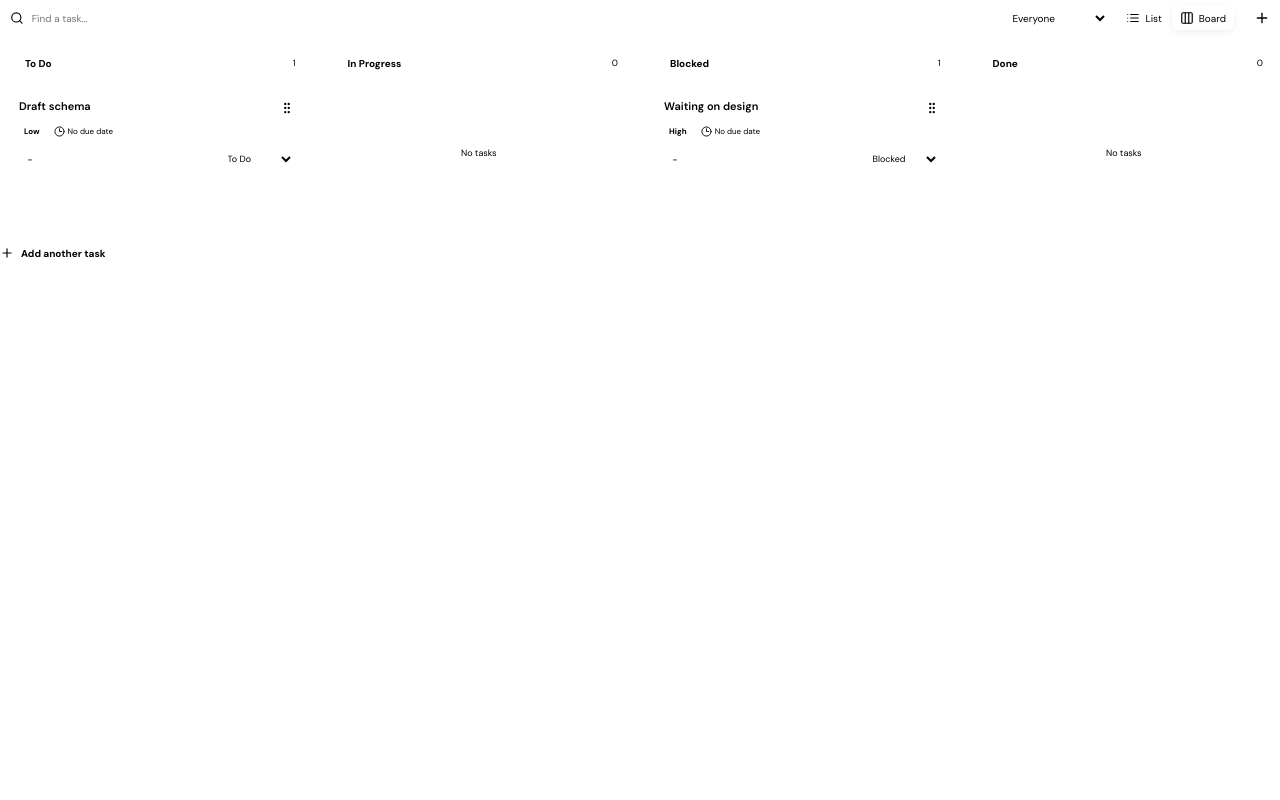
Test: TasksPanel board view › clicking a card opens the task in the edit modal (temporary drawer)
The width and height of the screenshot is (1280, 800).
Check: the text "Draft schema" is shown, box [19, 99, 91, 113]
What coordinates should you click on to do the following:
click the text "Waiting on design"
I would click on:
 (711, 106)
Its box is [664, 99, 758, 113].
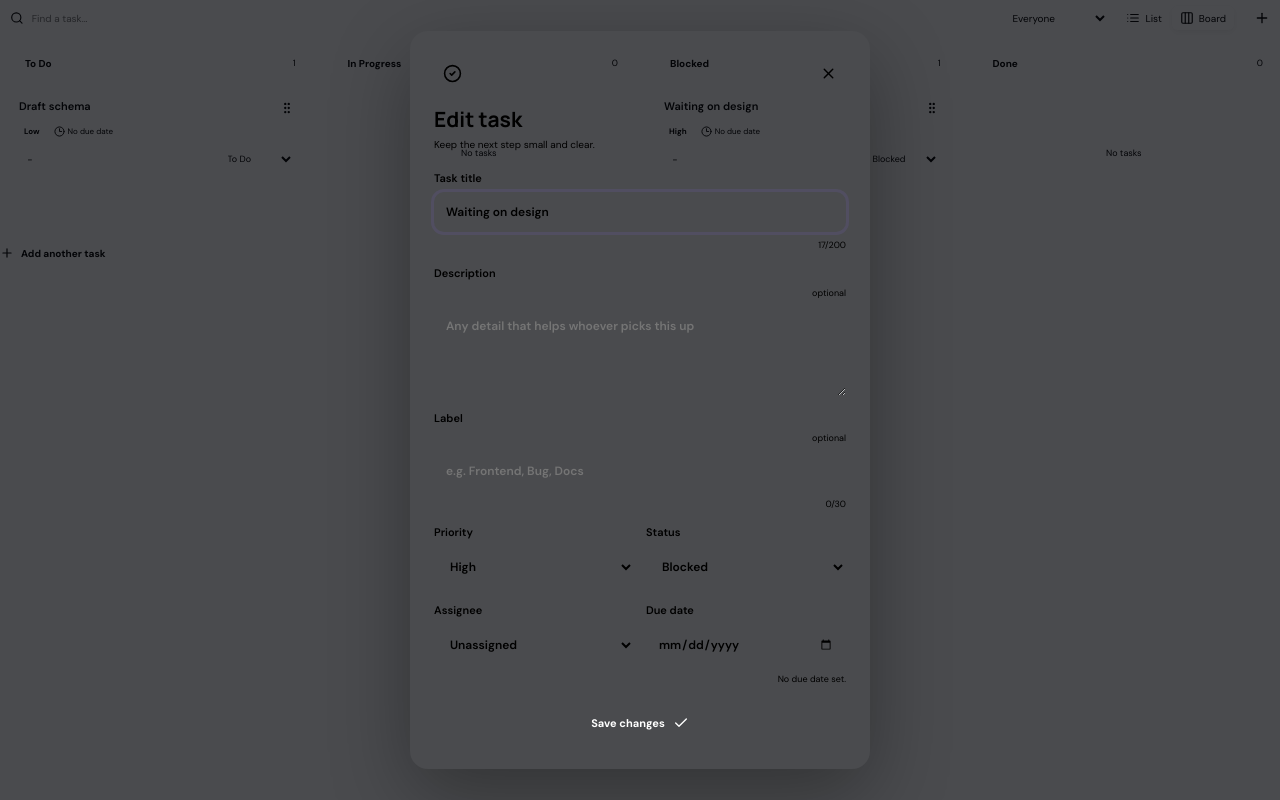
Check: the heading "Edit task" is shown, box [434, 105, 522, 133]
Check: the field showing "Waiting on design" is shown, box [434, 192, 846, 232]
